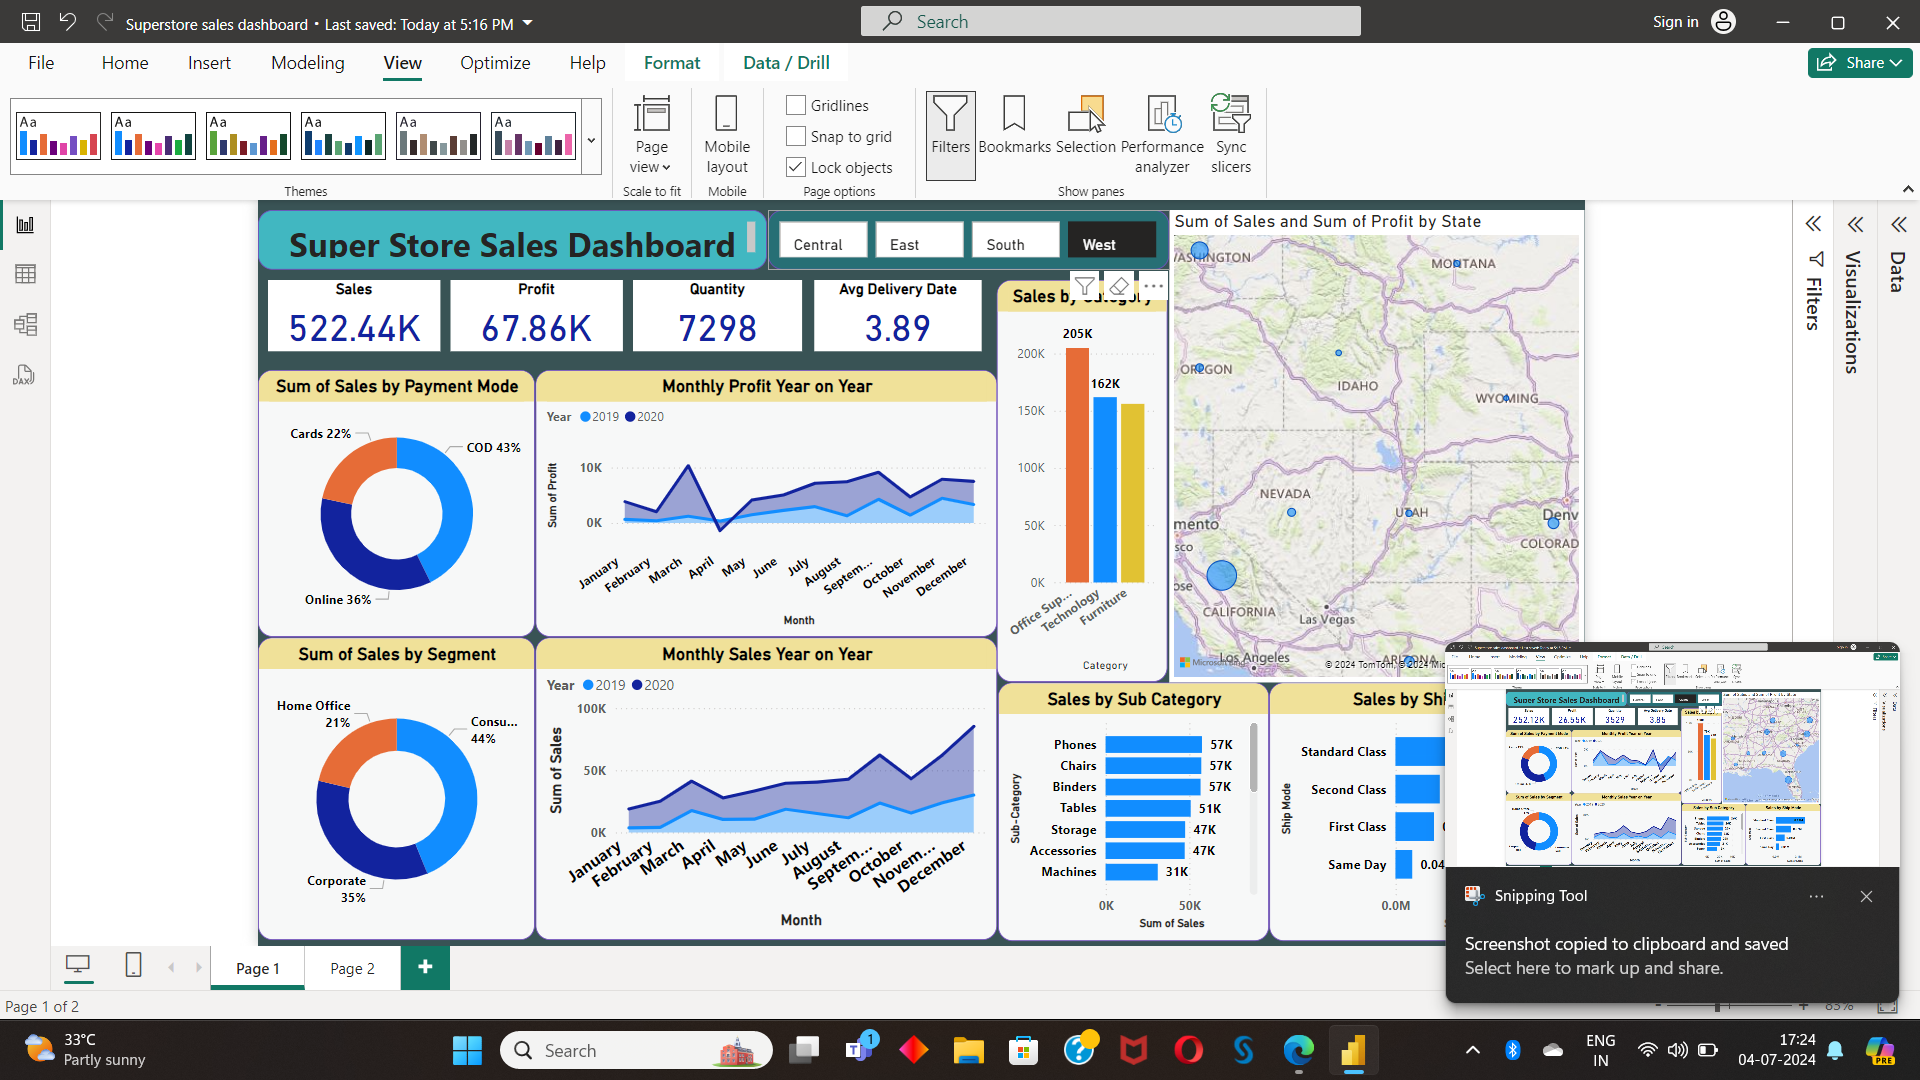

Layout of this report page (visuals, bound fields, positions):
{"tool":"powerbi","page":{"name":"Page 1","canvas":[1280,720],"ordinal":0},"visuals":[{"type":"clusteredColumnChart","title":"Sales by Category","fields":{"Category":["SuperStore_Sales_Dataset.Category"],"Y":["SuperStore_Sales_Dataset.Sales"]},"box":[713.6,76.8,164.7,388.3],"z":0},{"type":"clusteredBarChart","title":"Sales by Sub Category","fields":{"Category":["SuperStore_Sales_Dataset.Sub-Category"],"Y":["SuperStore_Sales_Dataset.Sales"]},"box":[713.9,465.8,261.8,249.4],"z":1000},{"type":"clusteredBarChart","title":"Sales by Ship Mode","fields":{"Category":["SuperStore_Sales_Dataset.Ship Mode"],"Y":["SuperStore_Sales_Dataset.Sales"]},"box":[975.7,465.8,304.6,249.4],"z":2000},{"type":"stackedAreaChart","title":" Monthly Sales Year on  Year","fields":{"Y":["SuperStore_Sales_Dataset.Sales"],"Category":["SuperStore_Sales_Dataset.Order Date.Variation.Date Hierarchy.Month"],"Series":["SuperStore_Sales_Dataset.Order Date.Variation.Date Hierarchy.Year"]},"box":[267.6,422.6,446,292.3],"z":3000},{"type":"stackedAreaChart","title":" Monthly Profit  Year on  Year","fields":{"Category":["SuperStore_Sales_Dataset.Order Date.Variation.Date Hierarchy.Month"],"Series":["SuperStore_Sales_Dataset.Order Date.Variation.Date Hierarchy.Year"],"Y":["SuperStore_Sales_Dataset.Profit"]},"box":[267.6,164.7,446,258],"z":4000},{"type":"map","fields":{"Category":["SuperStore_Sales_Dataset.State"],"Size":["SuperStore_Sales_Dataset.Sales"]},"box":[879.5,9.7,400.5,456],"z":5000},{"type":"donutChart","fields":{"Category":["SuperStore_Sales_Dataset.Segment"],"Y":["SuperStore_Sales_Dataset.Sales"]},"box":[0,422.6,267.6,292.3],"z":6000},{"type":"donutChart","fields":{"Category":["SuperStore_Sales_Dataset.Payment Mode"],"Y":["SuperStore_Sales_Dataset.Sales"]},"box":[0,164.7,267.6,258],"z":7000},{"type":"advancedSlicerVisual","fields":{"Values":["SuperStore_Sales_Dataset.Region"]},"box":[492.6,9.6,387,57.6],"z":8000},{"type":"textbox","box":[0,9.6,491.3,57.6],"z":9000},{"type":"card","title":"Sales","fields":{"Values":["SuperStore_Sales_Dataset.Sales"]},"box":[9.6,76.8,166,68.6],"z":10000},{"type":"card","title":"Profit","fields":{"Values":["SuperStore_Sales_Dataset.Profit"]},"box":[185.2,76.8,166,68.6],"z":11000},{"type":"card","title":"Quantity","fields":{"Values":["SuperStore_Sales_Dataset.Quantity"]},"box":[362.3,76.8,163.3,68.6],"z":12000},{"type":"card","title":"Avg Delivery Date","fields":{"Values":["SuperStore_Sales_Dataset.AvgDelivery Days"]},"box":[536.5,76.8,161.9,68.6],"z":13000}]}

Visuals, with their boxes on the page's 1280x720 design canvas (x1, y1, x2, y2). These are canvas units, not pixel positions in the 1920x1080 screenshot, which may show the page scaled, cropped or inside an application window:
"Sales by Category" clusteredColumnChart: [714, 77, 878, 465]
"Sales by Sub Category" clusteredBarChart: [714, 466, 976, 715]
"Sales by Ship Mode" clusteredBarChart: [976, 466, 1280, 715]
" Monthly Sales Year on  Year" stackedAreaChart: [268, 423, 714, 715]
" Monthly Profit  Year on  Year" stackedAreaChart: [268, 165, 714, 423]
map - SuperStore_Sales_Dataset.State x SuperStore_Sales_Dataset.Sales: [880, 10, 1280, 466]
donutChart - SuperStore_Sales_Dataset.Segment x SuperStore_Sales_Dataset.Sales: [0, 423, 268, 715]
donutChart - SuperStore_Sales_Dataset.Payment Mode x SuperStore_Sales_Dataset.Sales: [0, 165, 268, 423]
advancedSlicerVisual - SuperStore_Sales_Dataset.Region: [493, 10, 880, 67]
textbox: [0, 10, 491, 67]
"Sales" card: [10, 77, 176, 145]
"Profit" card: [185, 77, 351, 145]
"Quantity" card: [362, 77, 526, 145]
"Avg Delivery Date" card: [536, 77, 698, 145]
